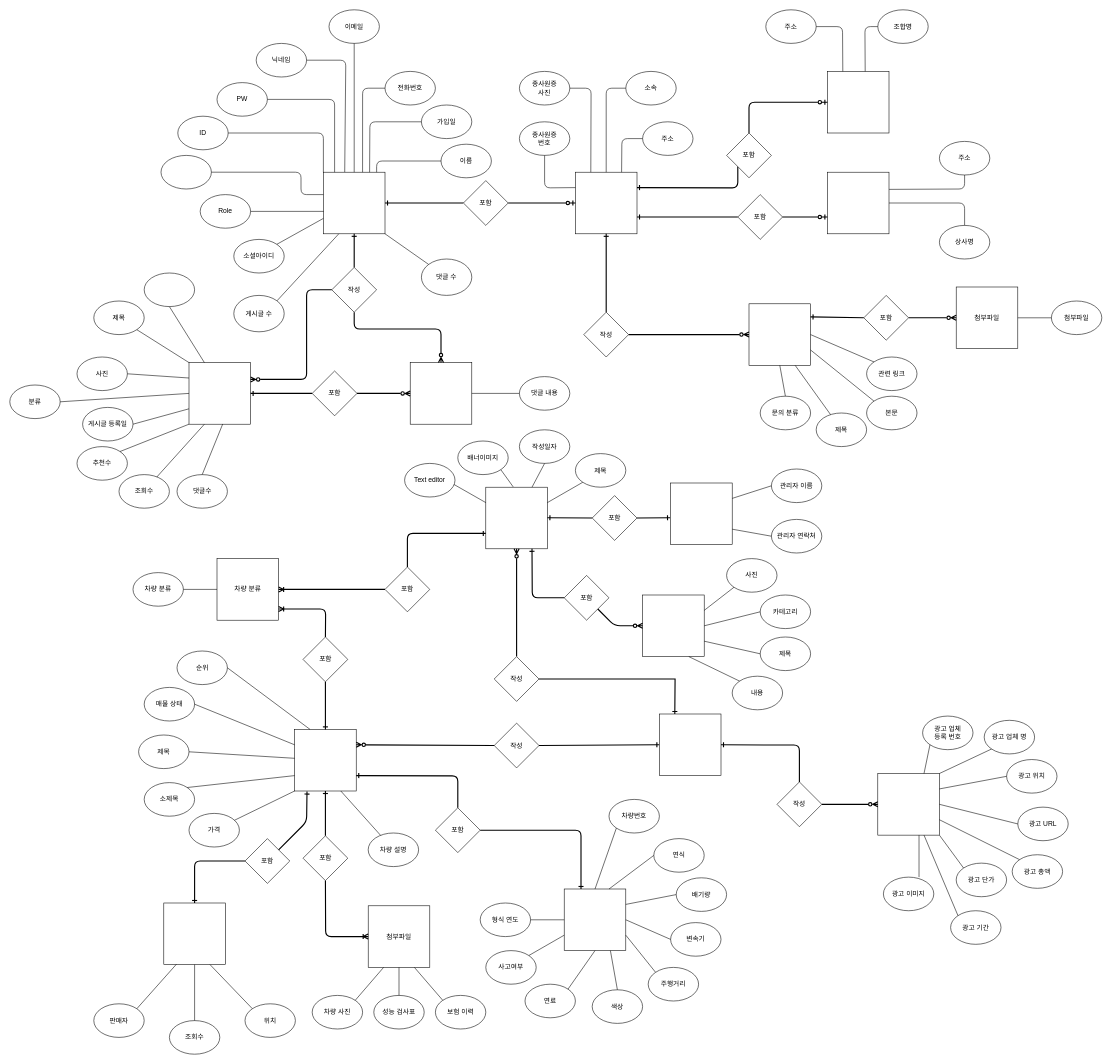
This 1112x1064 diagram has some shape labels left out. The box of each missing label's shape, as (x1, y1, x2, y2) in pixels:
관련 게시글: (642, 594, 704, 657)
관리자: (659, 713, 721, 776)
광고: (877, 773, 939, 835)
기본정보: (564, 888, 626, 951)
댓글: (410, 362, 472, 424)
딜러: (575, 172, 637, 234)
매물 게시글: (294, 729, 356, 791)
명함: (670, 482, 732, 545)
문의: (748, 303, 811, 365)
상사: (827, 172, 889, 234)
작성자: (144, 272, 195, 307)
조합: (827, 71, 889, 133)
직수입: (485, 487, 547, 549)
커뮤니티: (188, 362, 251, 424)
판매자 정보: (163, 902, 225, 965)
회원: (323, 172, 385, 234)
회원등급: (160, 155, 211, 189)
